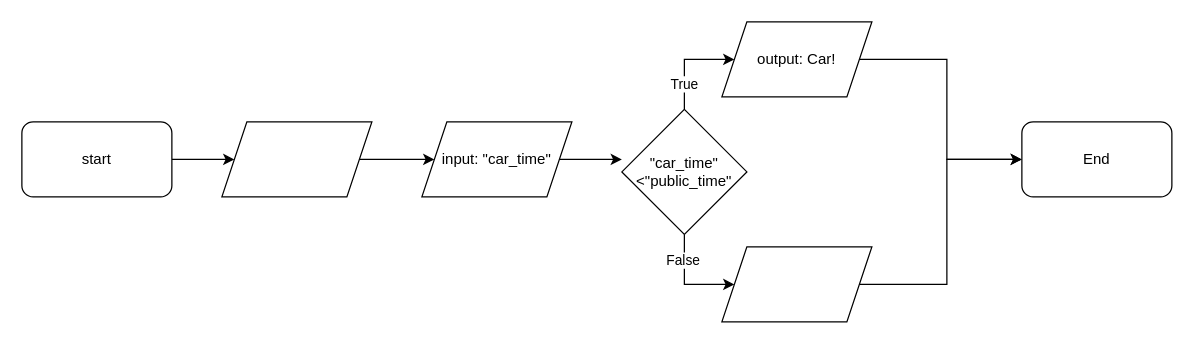
Some shapes in this 1194 by 344 pixel diagram are drawn without their labels. Each missing label, with the centre of its shape:
input: "public_time": point 296,159
output: Public!: point 796,284
